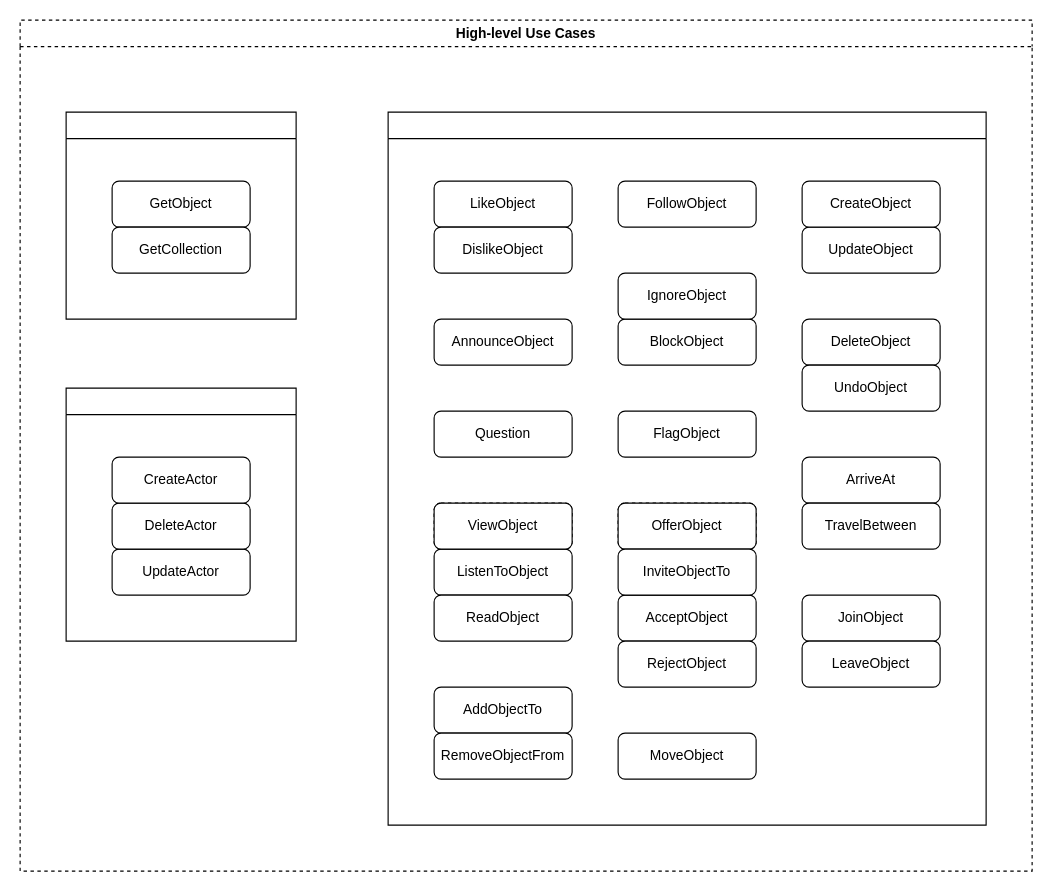
Image size: 1052x891. Some labels were removed from this diagram. The box of each missing label's shape, as (x1, y1, x2, y2) in pixels:
Activities (require a source Actor): (387, 111, 986, 825)
Client Operations: (65, 111, 296, 319)
Server Operations: (65, 387, 296, 641)
